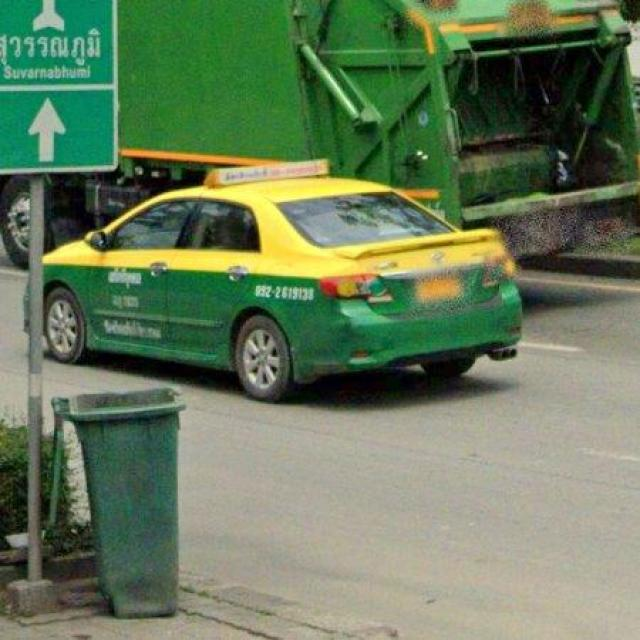Taxi: (44, 162, 523, 400)
